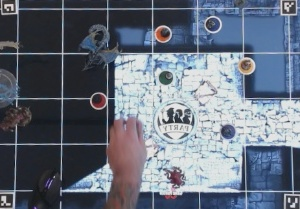blue: (203, 14, 225, 36)
green: (159, 68, 174, 84)
orange: (154, 23, 174, 45)
red: (91, 89, 111, 108)
violet: (219, 121, 239, 141)
yellow: (239, 54, 259, 75)
